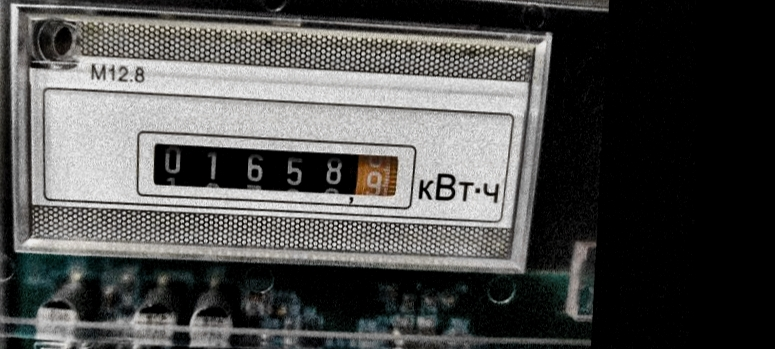0: (162, 143, 184, 176)
1: (206, 149, 220, 181)
5: (285, 154, 306, 187)
6: (246, 151, 267, 183)
8: (324, 154, 345, 187)
9: (364, 168, 383, 195)
screen: (127, 121, 422, 215)
